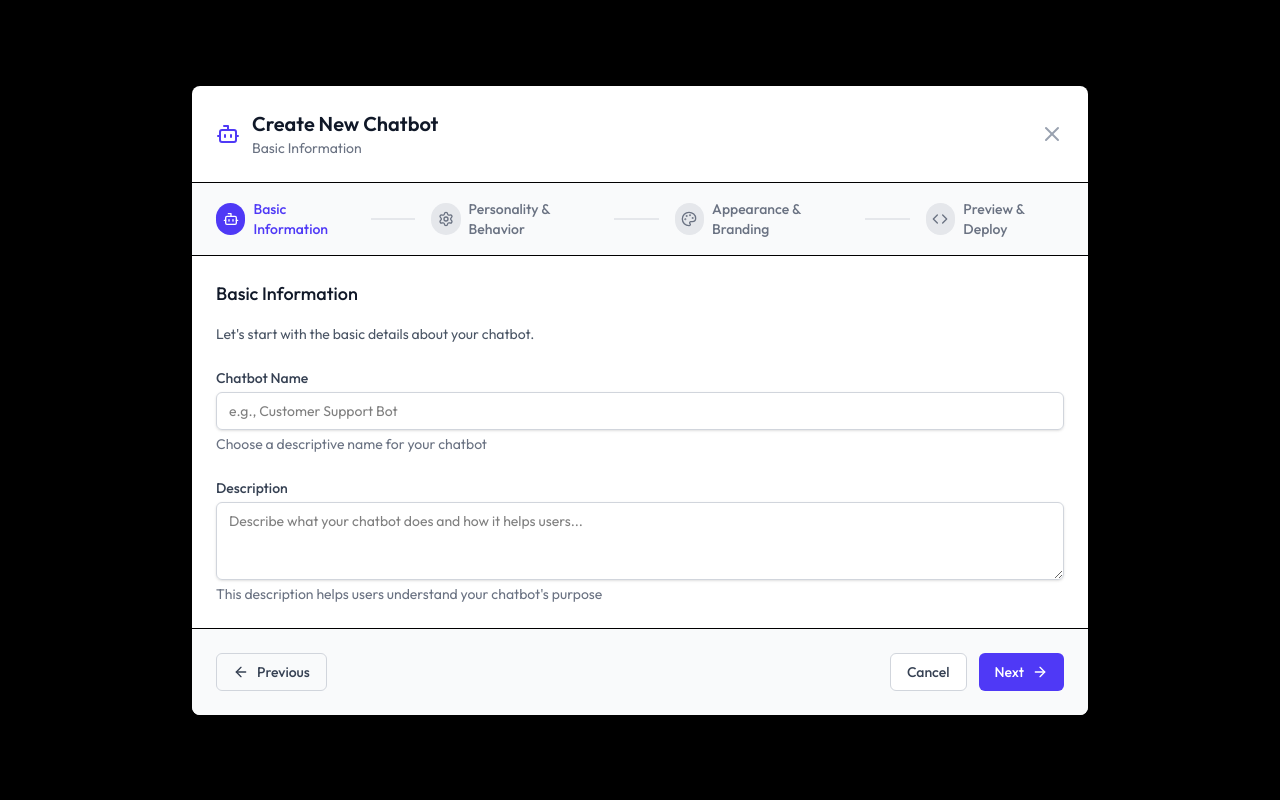
Test: ChatbotWizard › Form Validation › clears validation errors when user starts typing
The width and height of the screenshot is (1280, 800).
Note: Trigger validation error
Click the button "Next": (1021, 672) [978,652,1064,690]
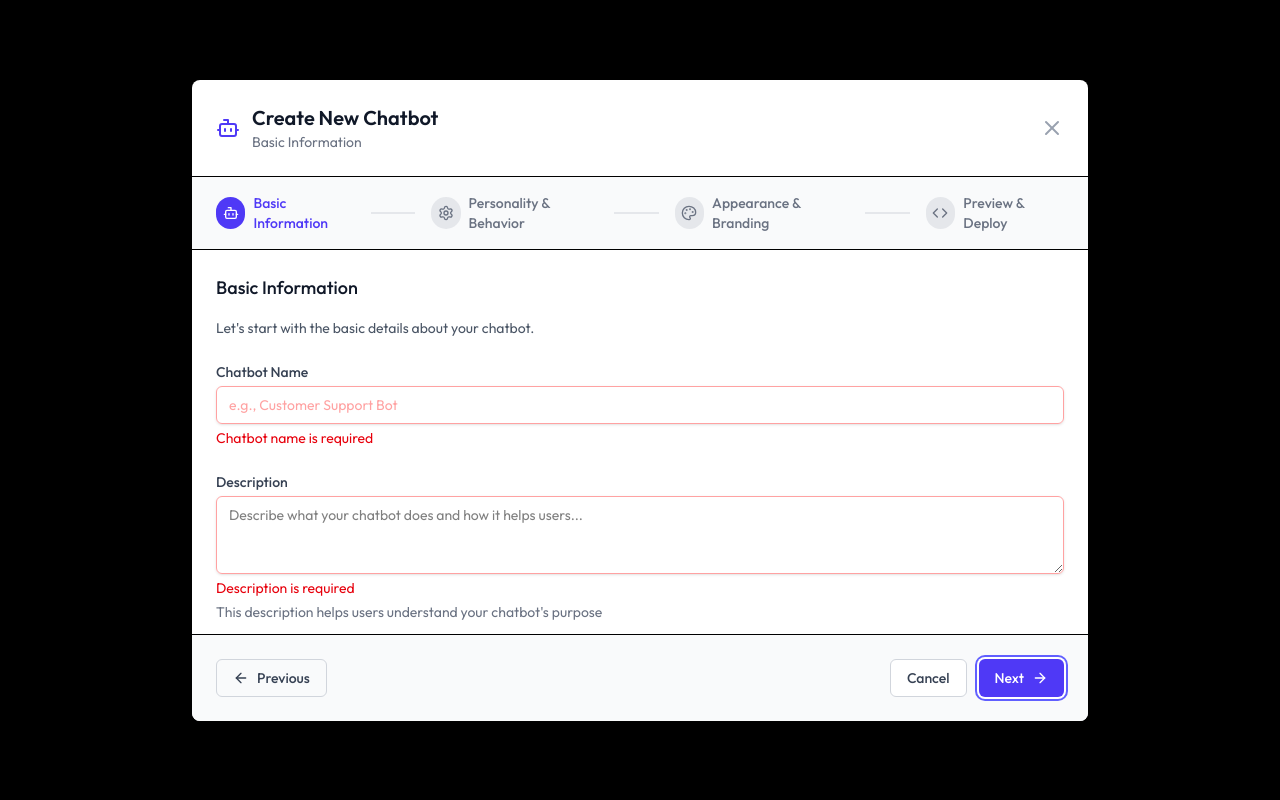
Result: the text "Chatbot name is required" is shown at [216,428,373,446]
Note: Start typing to clear error
In the field labelled "Chatbot Name": (640, 404) [216,386,1064,424], type "Test"
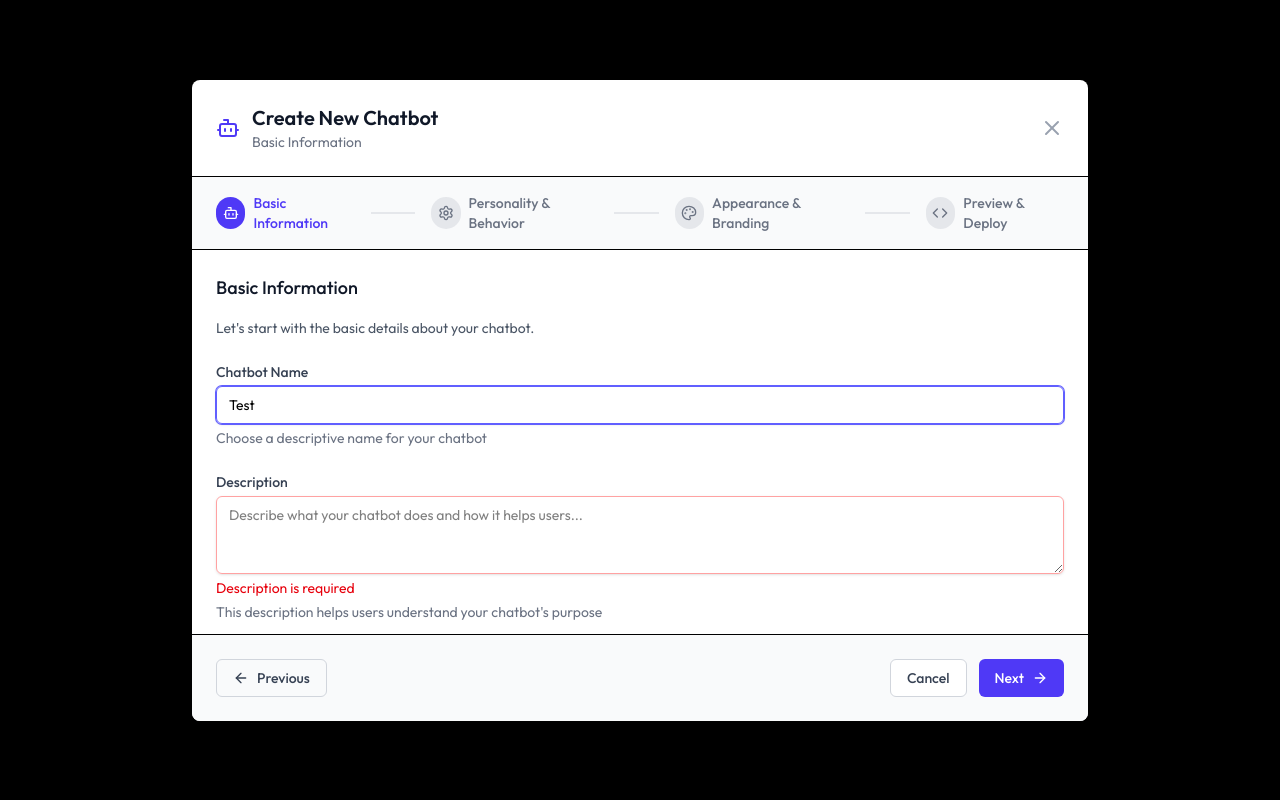
Result: the text "Chatbot name is required" is gone
